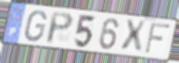5: (72, 14, 98, 50)
6: (97, 17, 121, 51)
F: (143, 21, 172, 55)
G: (23, 10, 48, 43)
P: (45, 11, 75, 46)
X: (119, 19, 147, 54)
